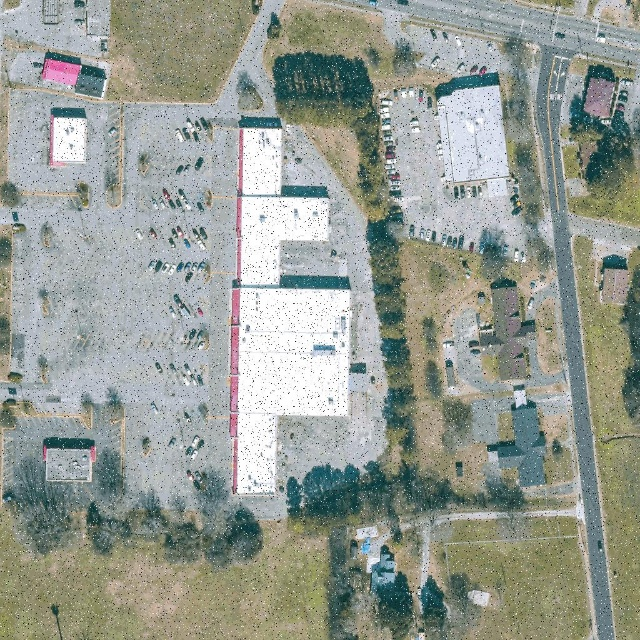vegetation: (268, 88, 535, 554), (24, 493, 263, 562), (371, 571, 447, 640), (587, 131, 638, 201), (626, 271, 639, 430)
